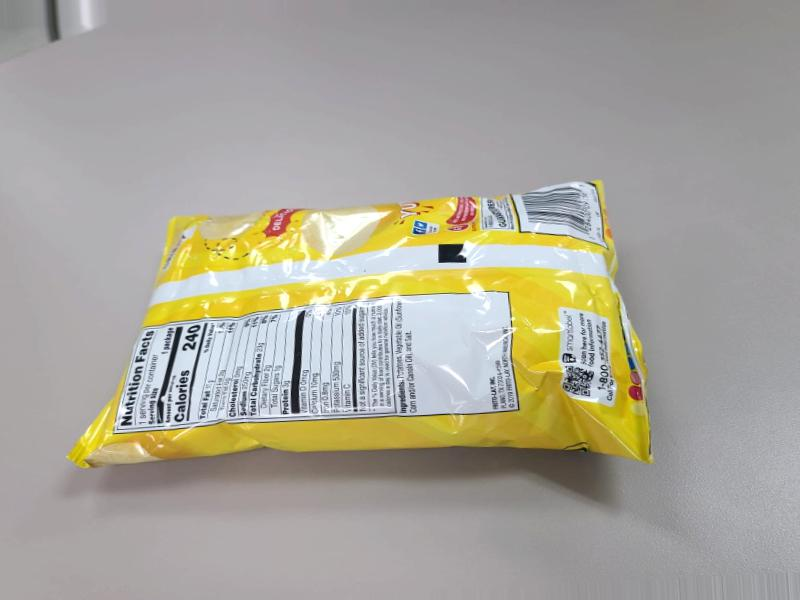lays: (86, 178, 672, 488)
